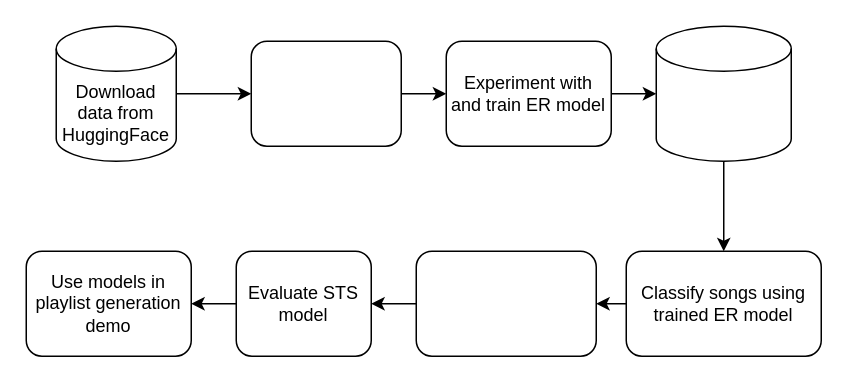
Some shapes in this 848 by 383 pixel diagram are drawn without their labels. Each missing label, with the centre of its shape:
"Download song dataset from Kaggle" goes at (723,93).
"Load pre-trained STS model from HuggingFace" goes at (505,303).
"Split data and preprocess" goes at (325,93).
